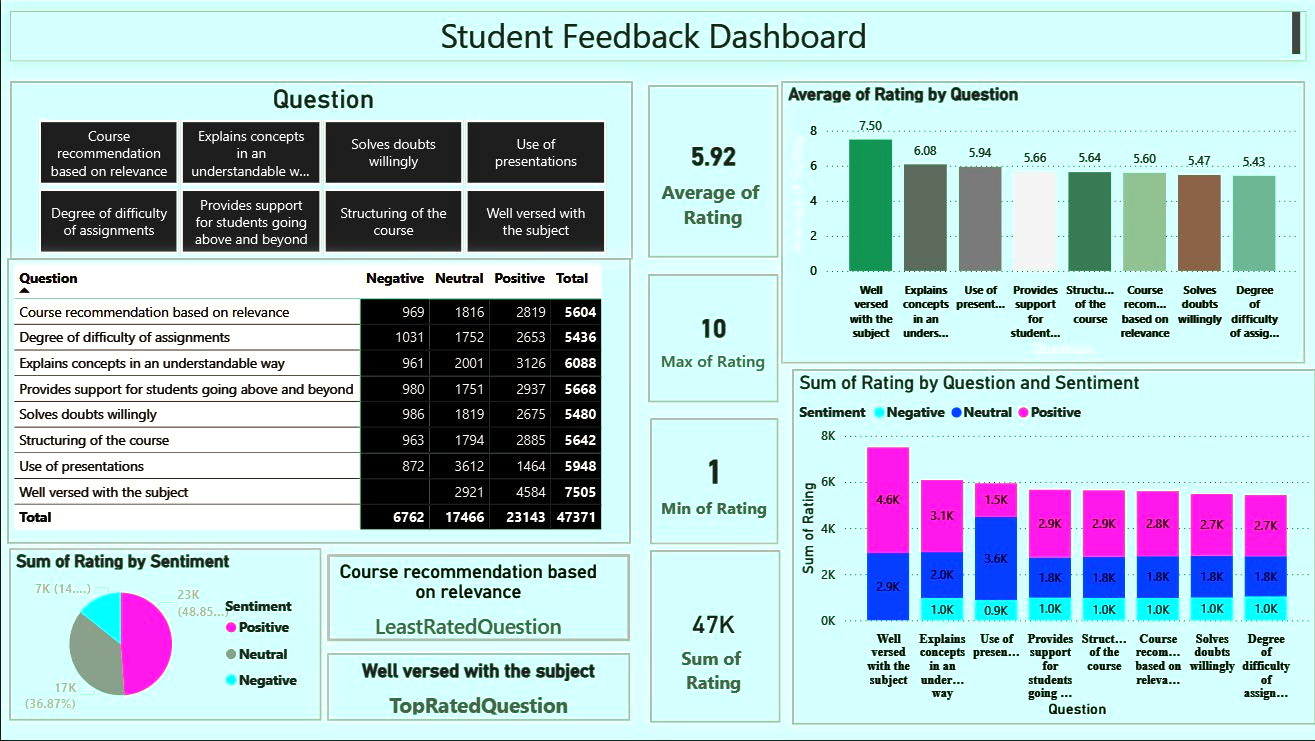

Layout of this report page (visuals, bound fields, positions):
{"tool":"powerbi","page":{"name":"Page 1","canvas":[1280,720],"ordinal":0},"visuals":[{"type":"columnChart","fields":{"Category":["student_feedback.Question"],"Y":["Avg(student_feedback.Rating)"]},"box":[758.9,78.4,510.3,275.1],"z":0},{"type":"card","title":"Av","fields":{"Values":["Avg(student_feedback.Rating)"]},"box":[629.3,83.2,126.6,168.2],"z":1000},{"type":"card","fields":{"Values":["AVGRatingsTable.TopRatedQuestion"]},"box":[317.5,635,294.8,66.1],"z":2000},{"type":"card","fields":{"Values":["Min(student_feedback.Rating)"]},"box":[631.2,406.3,124.7,122.8],"z":3000},{"type":"slicer","title":"Question","fields":{"Values":["student_feedback.Question"]},"box":[8.4,78.4,605.6,173.7],"z":4000},{"type":"card","fields":{"Values":["Sum(student_feedback.Rating)"]},"box":[631.2,534.8,126.6,168.2],"z":5000},{"type":"card","fields":{"Values":["AVGRatingsTable.LeastRatedQuestion"]},"box":[317.5,538.6,294.8,85],"z":6000},{"type":"card","fields":{"Values":["Max(student_feedback.Rating)"]},"box":[629.3,266.5,126.6,124.7],"z":7000},{"type":"pieChart","fields":{"Category":["student_feedback.Sentiment"],"Y":["Sum(student_feedback.Rating)"]},"box":[7.6,532.9,304.3,168.2],"z":8000},{"type":"columnChart","fields":{"Y":["Sum(student_feedback.Rating)"],"Category":["student_feedback.Question"],"Series":["student_feedback.Sentiment"]},"box":[769.1,359.1,510.2,345.8],"z":9000},{"type":"textbox","box":[8.4,10.9,1260.7,49.5],"z":10000},{"type":"pivotTable","fields":{"Rows":["student_feedback.Question"],"Values":["Sum(student_feedback.Rating)"],"Columns":["student_feedback.Sentiment"]},"box":[5.7,251.3,606.6,277.8],"z":11000}]}

Visuals, with their boxes in screenshot pixels (x1, y1, x2, y2), scaled from the page's 1280x720 canvas onto the 1315x741 screenshot:
columnChart - student_feedback.Question x Avg(student_feedback.Rating): 780/81/1304/364
"Av" card: 647/86/777/259
card - AVGRatingsTable.TopRatedQuestion: 326/654/629/722
card - Min(student_feedback.Rating): 648/418/777/545
"Question" slicer: 9/81/631/259
card - Sum(student_feedback.Rating): 648/550/779/724
card - AVGRatingsTable.LeastRatedQuestion: 326/554/629/642
card - Max(student_feedback.Rating): 647/274/777/403
pieChart - student_feedback.Sentiment x Sum(student_feedback.Rating): 8/548/320/722
columnChart - Sum(student_feedback.Rating) x student_feedback.Question: 790/370/1314/725
textbox: 9/11/1304/62
pivotTable - student_feedback.Question x Sum(student_feedback.Rating): 6/259/629/545
